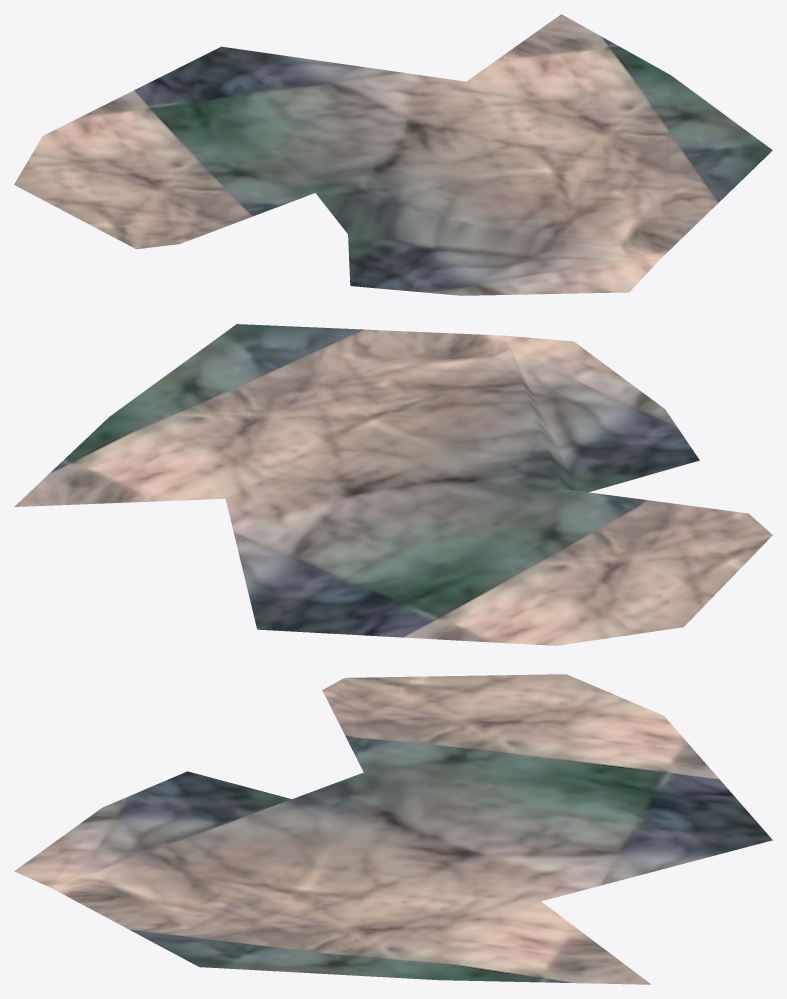
The model's file is Ridge_5_Top.gltf.
The picture shows the model from 3 angles, top to bottom: view 1: azimuth 30°, elevation 25°; view 2: azimuth 150°, elevation 25°; view 3: azimuth 270°, elevation 25°; orthographic projection. The views are drawn at different scales.
Visible parts, largest first — view 1: Ridge_5_Top; view 2: Ridge_5_Top; view 3: Ridge_5_Top.
Boxes of the visible parts, x1,y1,x2,y2 form: Ridge_5_Top: [14, 14, 772, 295]; Ridge_5_Top: [14, 324, 772, 645]; Ridge_5_Top: [14, 674, 772, 984].
Size of the model in its own units: 34.89 by 1.73 by 35.63.
1 material, 1 textured.
